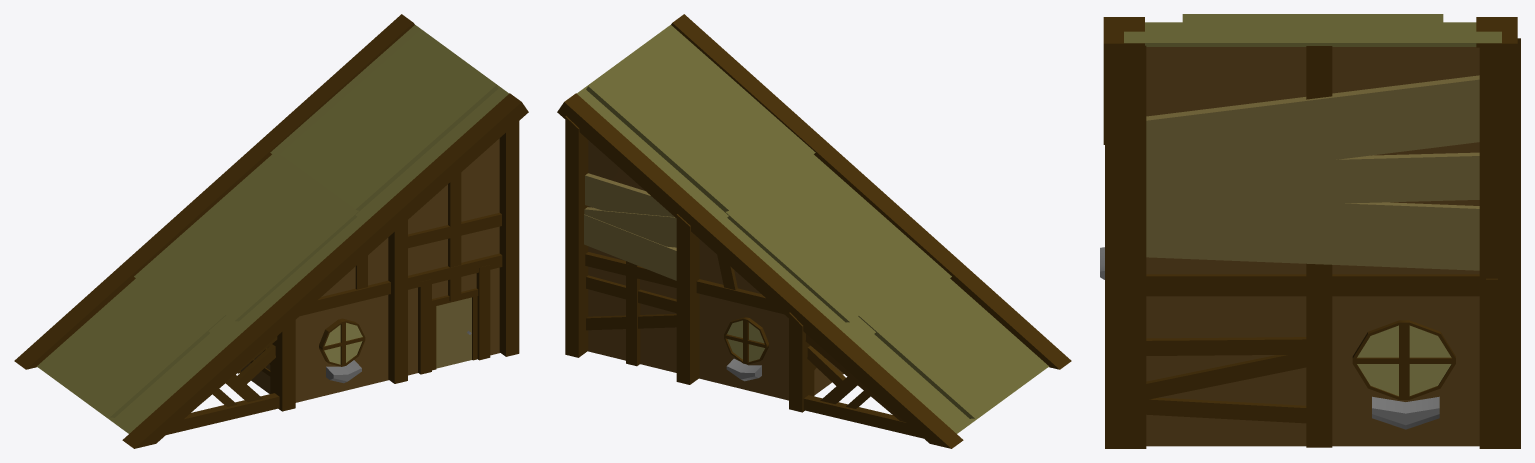
File: Mesh_Farm_Ramp_3.fbx
The picture shows the model from 3 angles, left to right: view 1: azimuth 30°, elevation 25°; view 2: azimuth 150°, elevation 25°; view 3: azimuth 270°, elevation 25°; orthographic projection. The views are drawn at different scales.
Parts seen in each view (by area): view 1: Farm_Ramp_3; view 2: Farm_Ramp_3; view 3: Farm_Ramp_3.
Boxes of the visible parts, <box> form: Farm_Ramp_3: <box>14,14,528,448</box>; Farm_Ramp_3: <box>557,14,1071,448</box>; Farm_Ramp_3: <box>1100,14,1520,448</box>.
Size of the model in its own units: 1403 by 858 by 750.
Materials: 1 (1 with a texture image).
